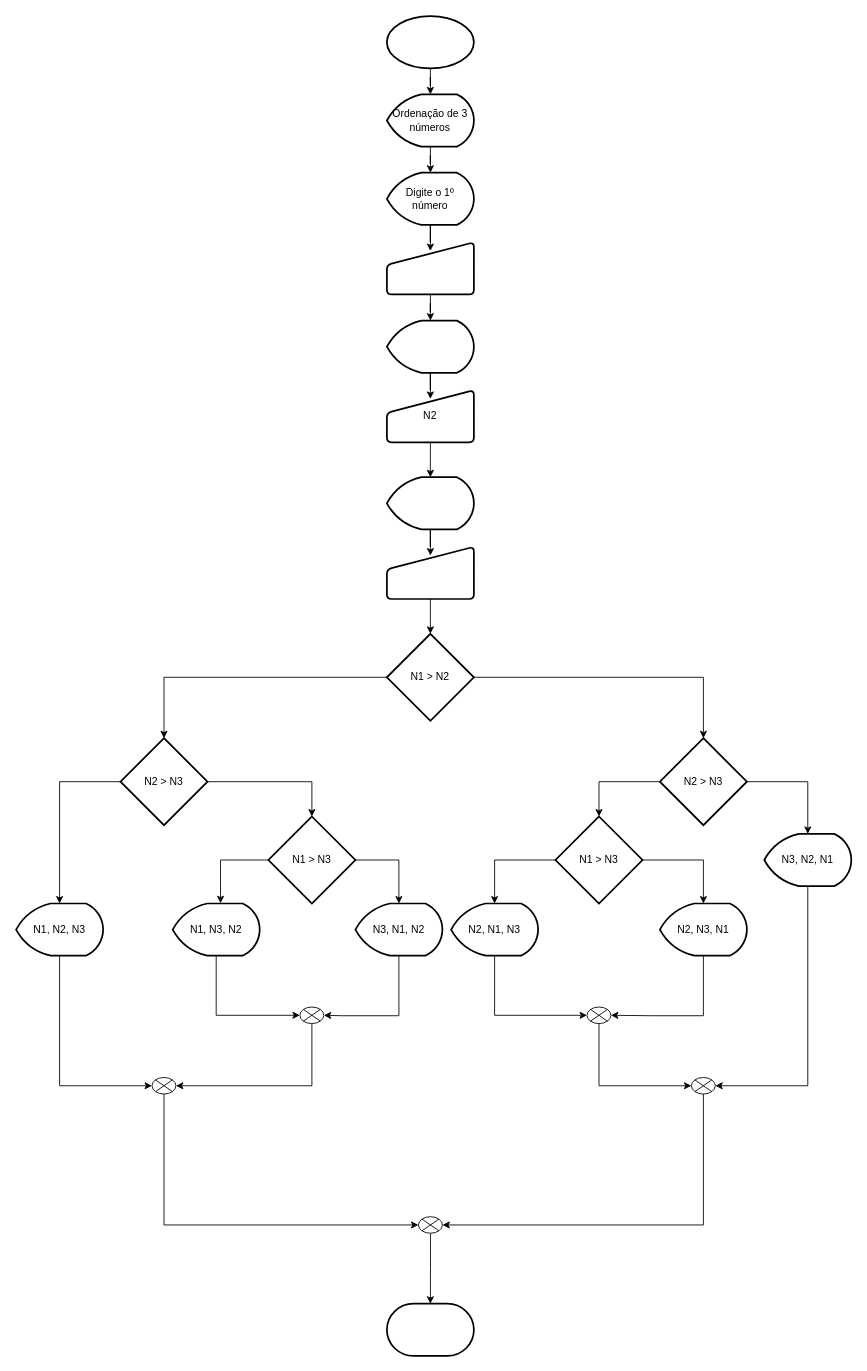
Image size: 867x1371. Some labels were removed from this diagram. Each missing label, with the centre of its shape:
Digite o 2º número: pixel 430 346
Digite o 3º número: pixel 430 503
Fim: pixel 430 1329
Inicio: pixel 430 42
N1: pixel 430 268
N3: pixel 430 572
